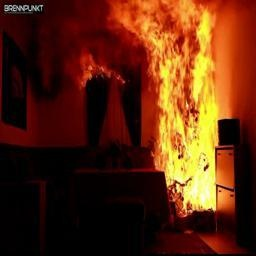fire: (107, 0, 245, 213)
